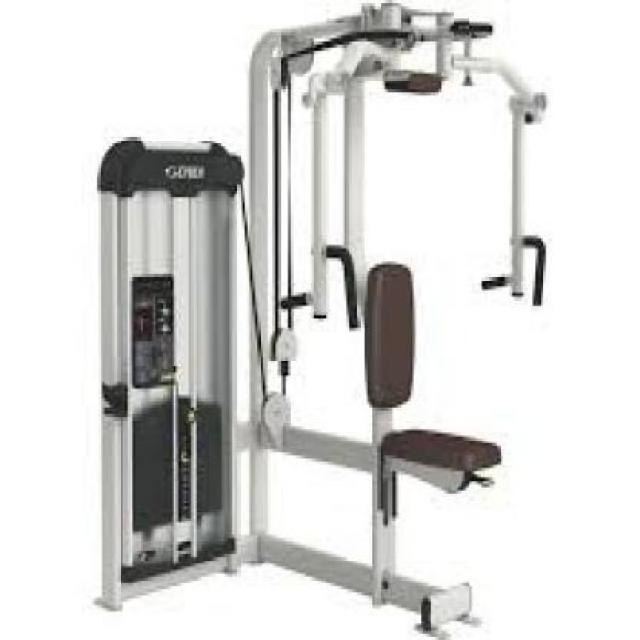chest fly machine: (87, 0, 556, 640)
